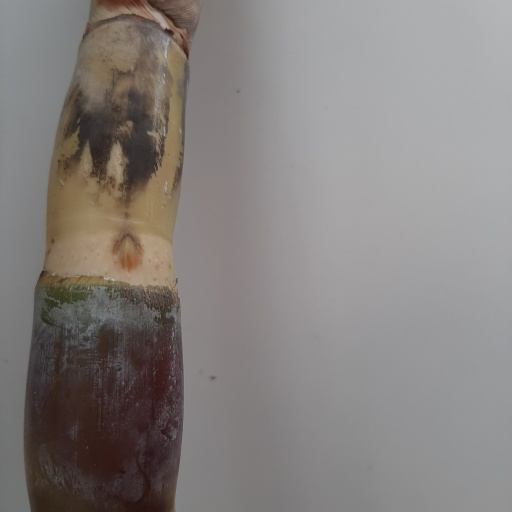Bud: (115, 233, 143, 270)
